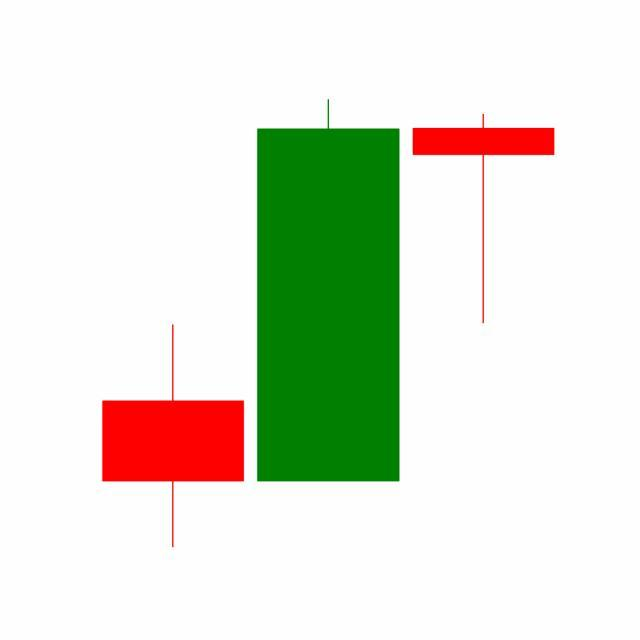Dragonfly Doji: (406, 112, 562, 326)
